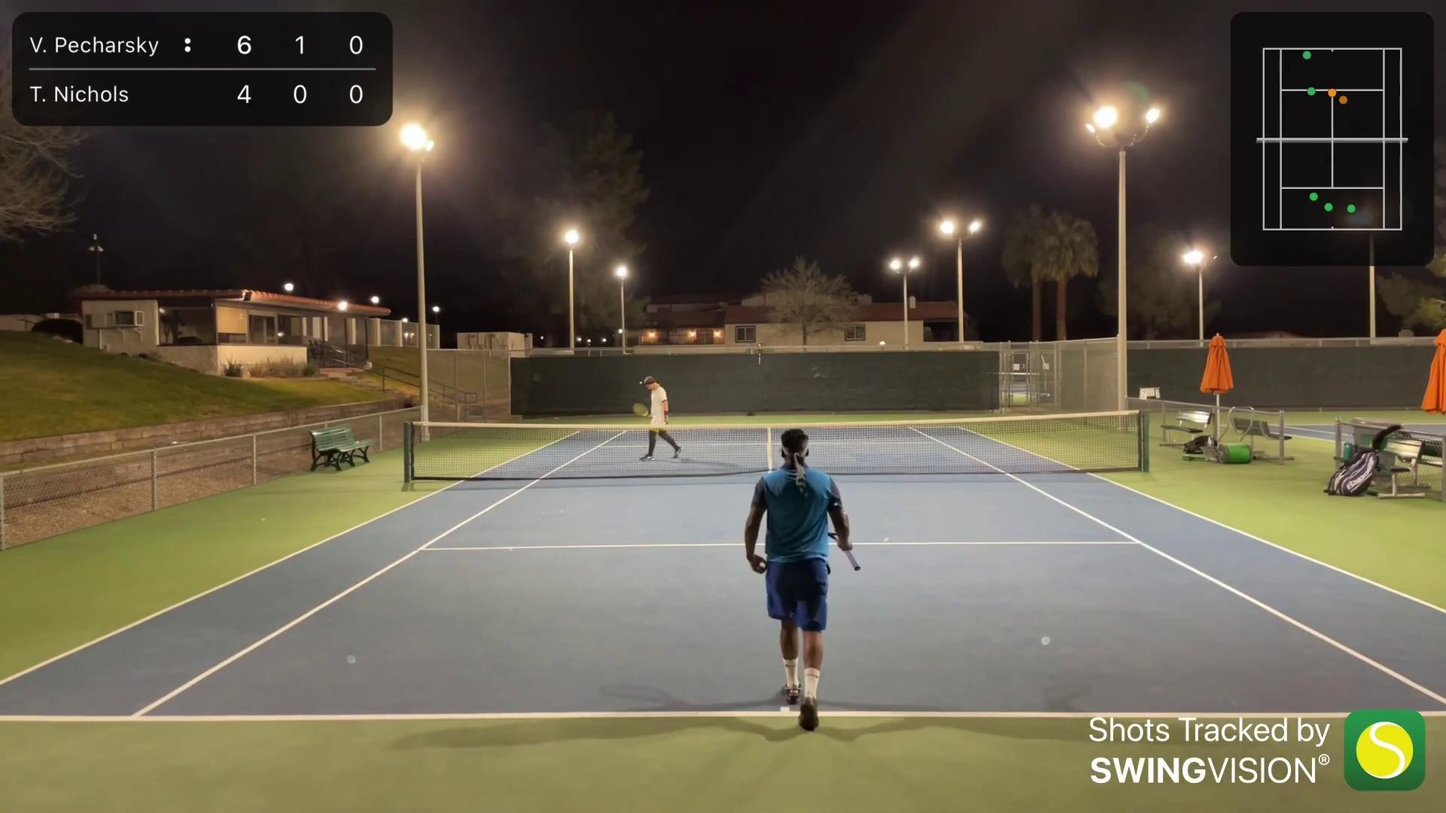ball: (760, 561, 768, 569)
